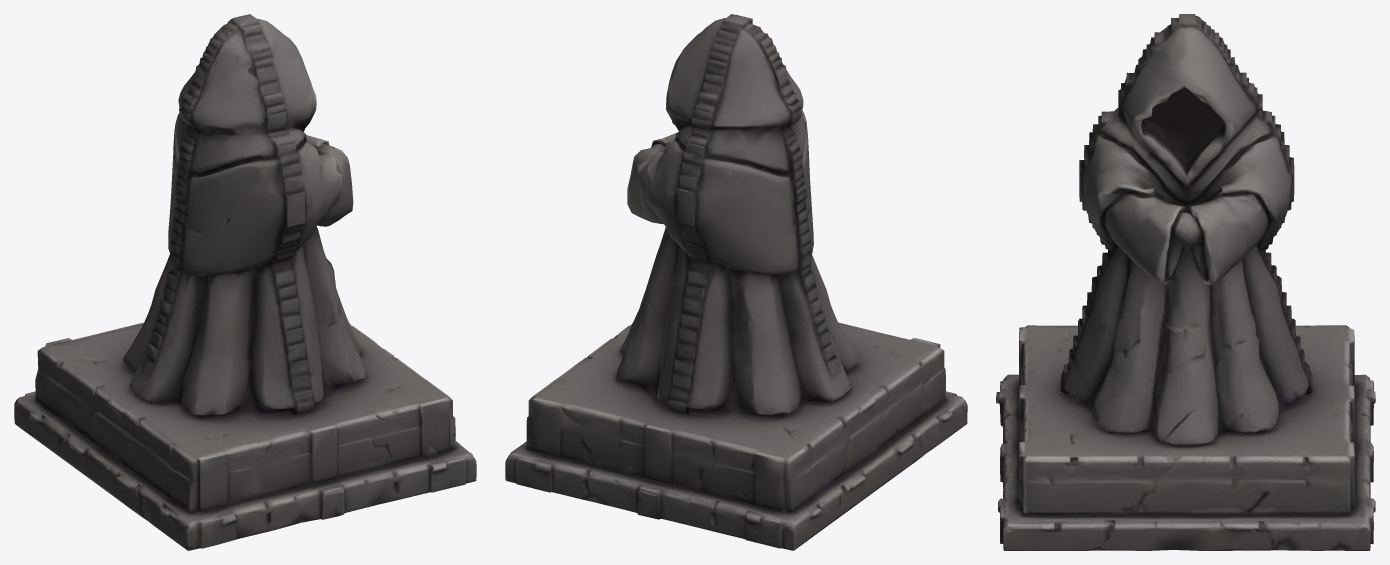
The model's file is statue.glb.
3 views of the same model, side by side, from view 1: azimuth 30°, elevation 25°; view 2: azimuth 150°, elevation 25°; view 3: azimuth 270°, elevation 25° (orthographic). The views are drawn at different scales.
Parts seen in each view (by area): view 1: tripo_node_7e61b791-c8e2-4e1d-86a8-a5ee5c9d9015; view 2: tripo_node_7e61b791-c8e2-4e1d-86a8-a5ee5c9d9015; view 3: tripo_node_7e61b791-c8e2-4e1d-86a8-a5ee5c9d9015.
Part boxes in pixels (box(x1,y1,x2,y2)): tripo_node_7e61b791-c8e2-4e1d-86a8-a5ee5c9d9015: box(14, 14, 476, 550); tripo_node_7e61b791-c8e2-4e1d-86a8-a5ee5c9d9015: box(505, 14, 967, 550); tripo_node_7e61b791-c8e2-4e1d-86a8-a5ee5c9d9015: box(996, 14, 1375, 550).
Bounding box in the file's own units: 0.7075 × 1 × 0.7505.
1 material, 1 textured.
